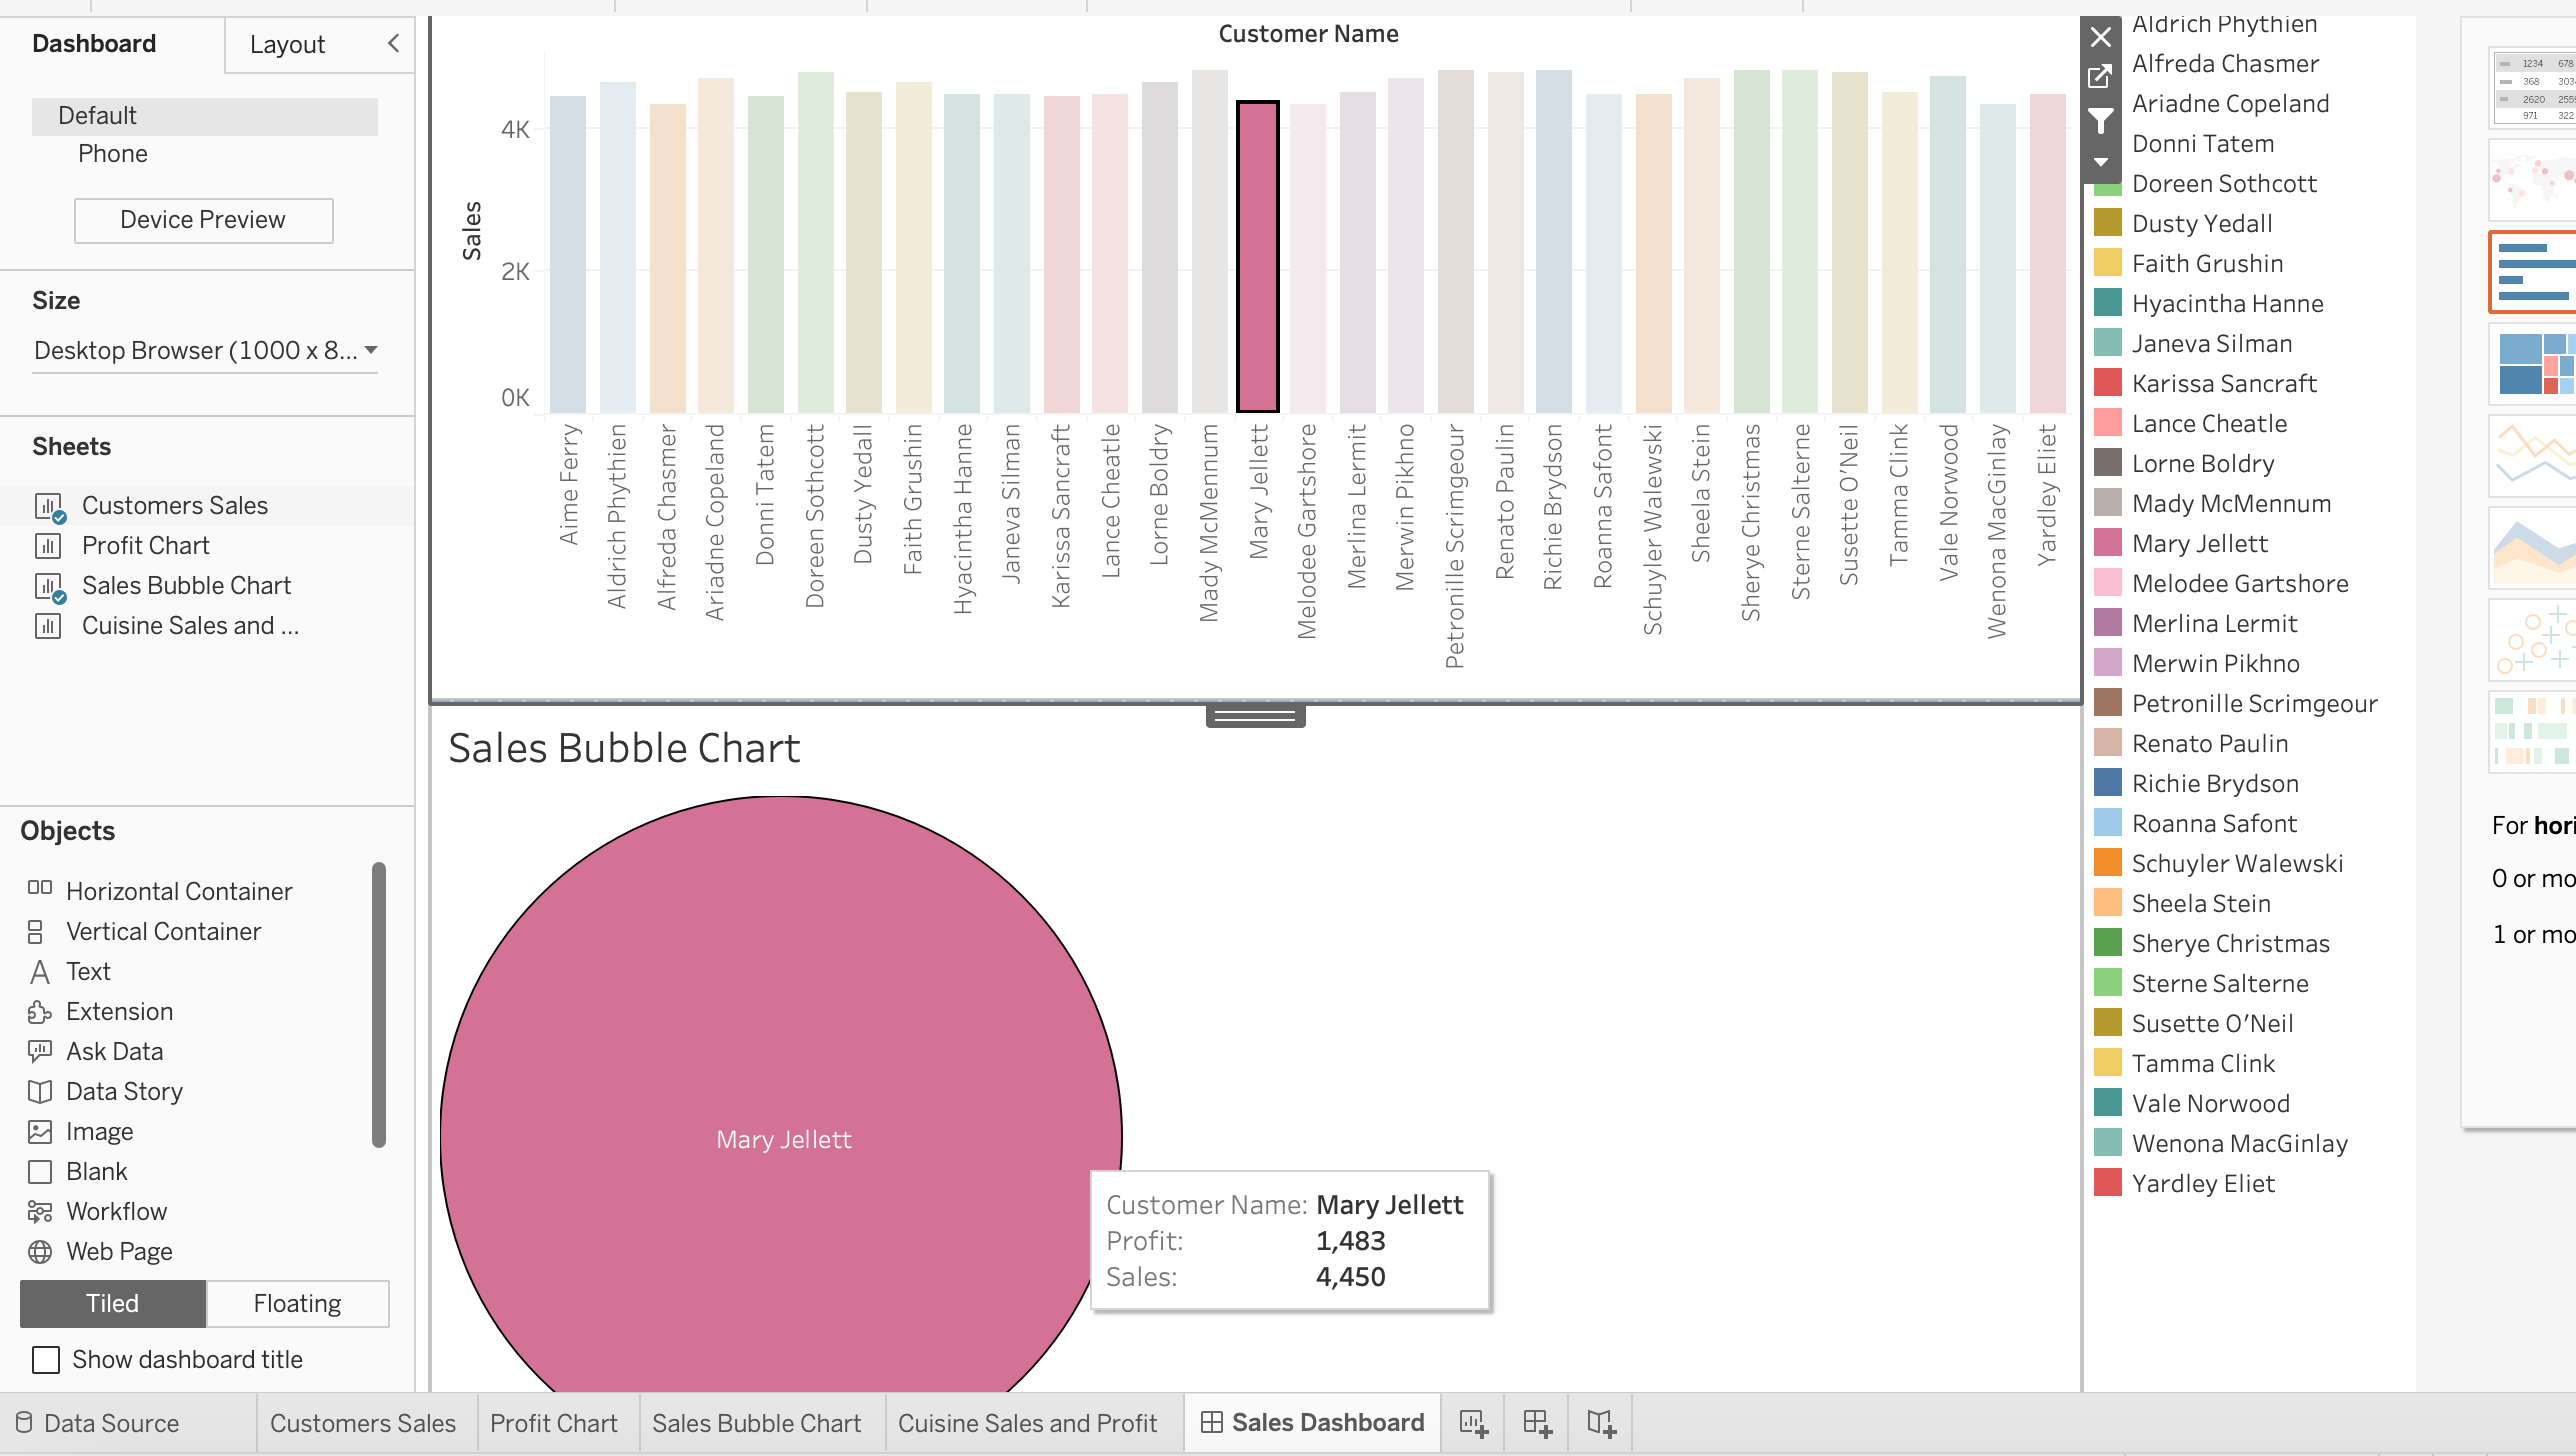

This screenshot's page, from the dashboard's own definition file:
{"tool":"tableau","page":{"name":"Sales Dashboard","canvas":[1000,800],"ordinal":0},"visuals":[{"type":"worksheet","title":"Customers Sales","mark":"Automatic","rows":["Sales"],"cols":["Customer Name"],"box":[8,8,824,392]},{"type":"legend","title":"Customers Sales","param":"[federated.06285ax0hjg2uz1aeammw0bfxkjl].[none:Customer Name:nk]","box":[832,8,160,646]},{"type":"worksheet","title":"Sales Bubble Chart","mark":"Circle","box":[8,400,824,392]}]}

Visuals, with their boxes on the page's 1000x800 design canvas (x1, y1, x2, y2). These are canvas units, not pixel positions in the 2576x1456 screenshot, which may show the page scaled, cropped or inside an application window:
"Customers Sales" worksheet: region(8, 8, 832, 400)
"Customers Sales" legend: region(832, 8, 992, 654)
"Sales Bubble Chart" worksheet (Circle marks): region(8, 400, 832, 792)
